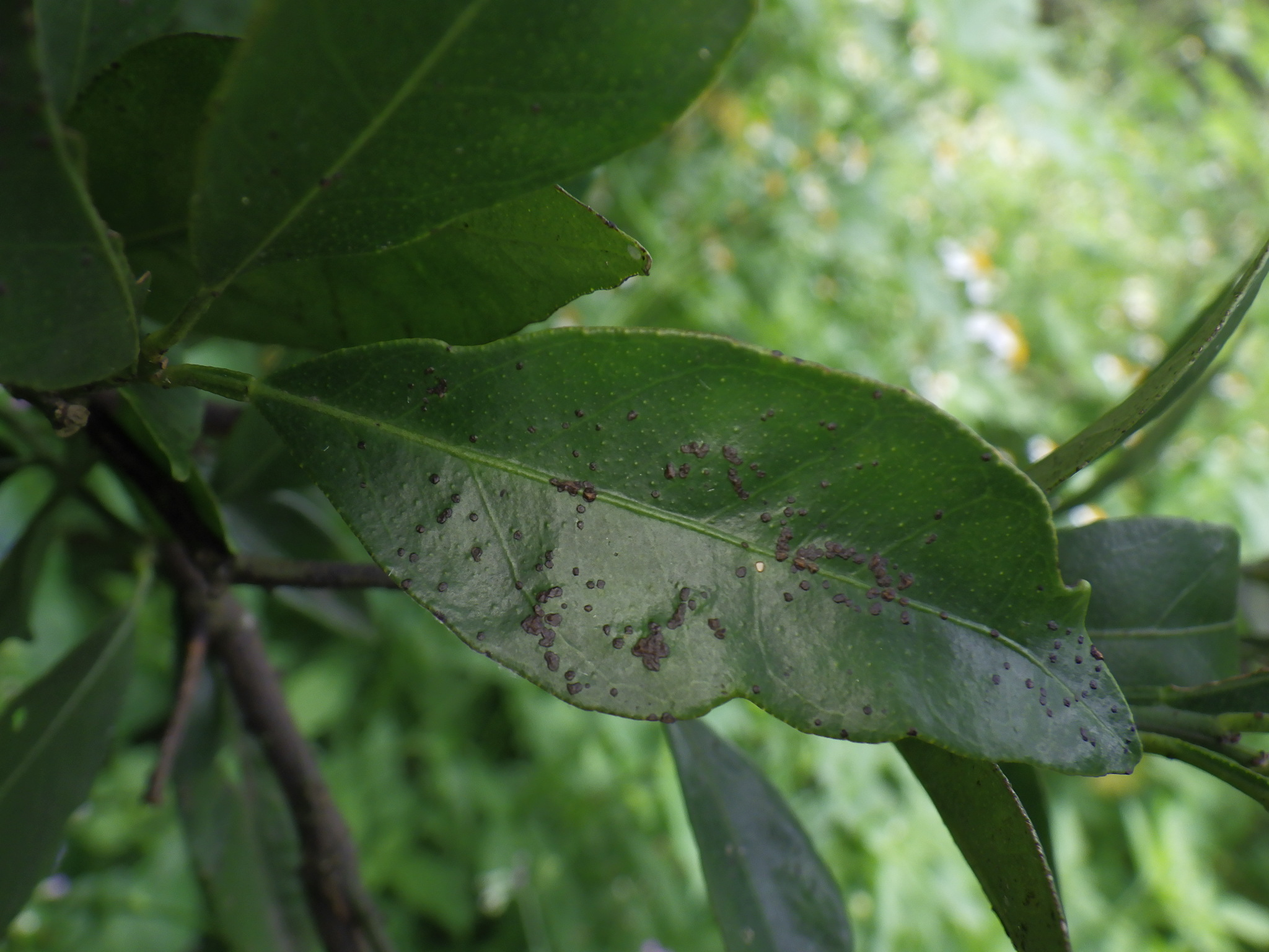Black_Spot: (231, 328, 1137, 774)
